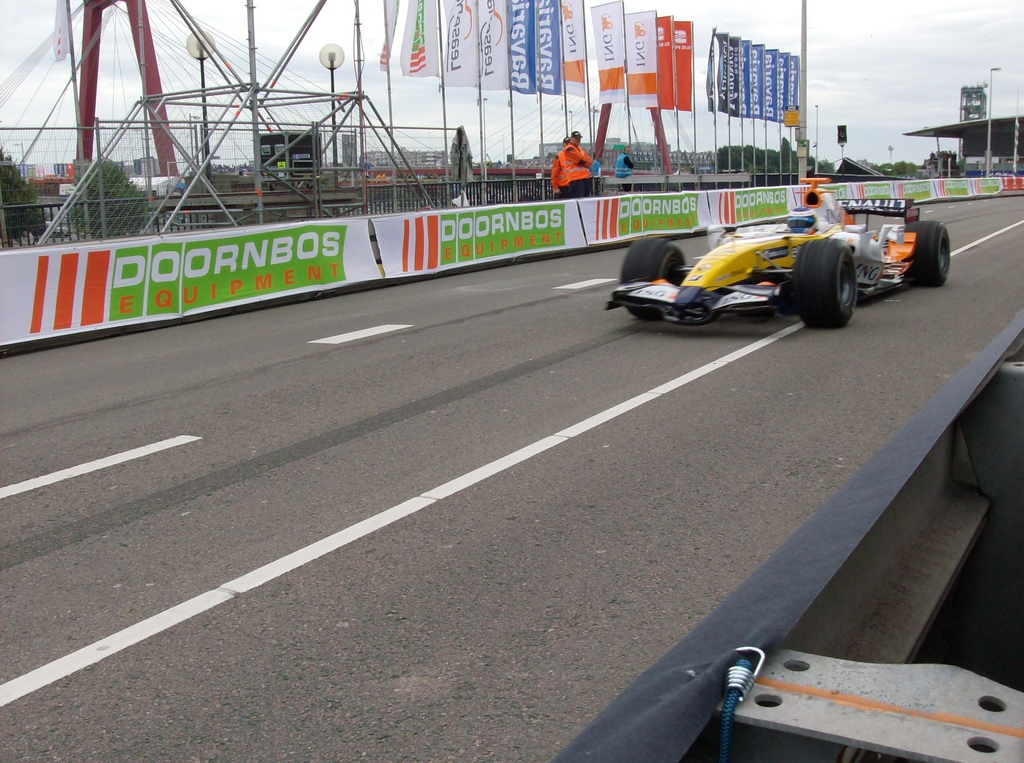Car: (604, 173, 951, 332)
